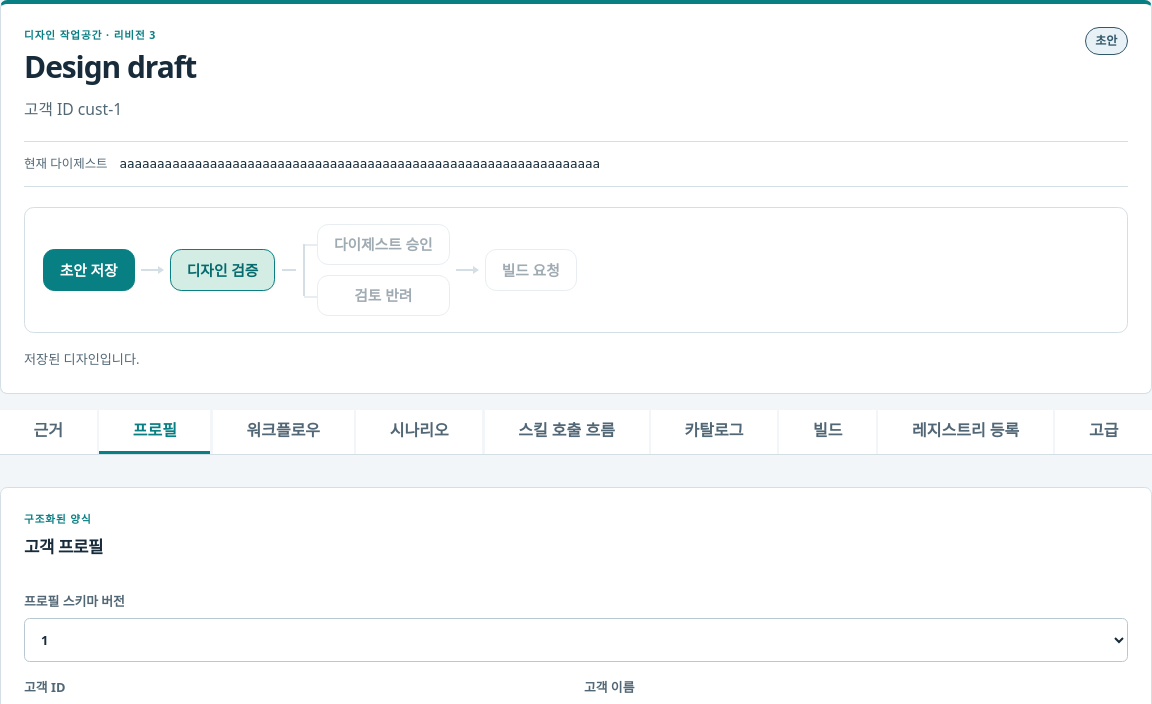
Test: StudioDesignPageContent › shows a catalog summary without exposing raw catalog JSON by default
Check: the heading "Design draft" is shown, box [24, 50, 196, 83]
Click the tab "카탈로그": (714,432) [651, 410, 777, 454]
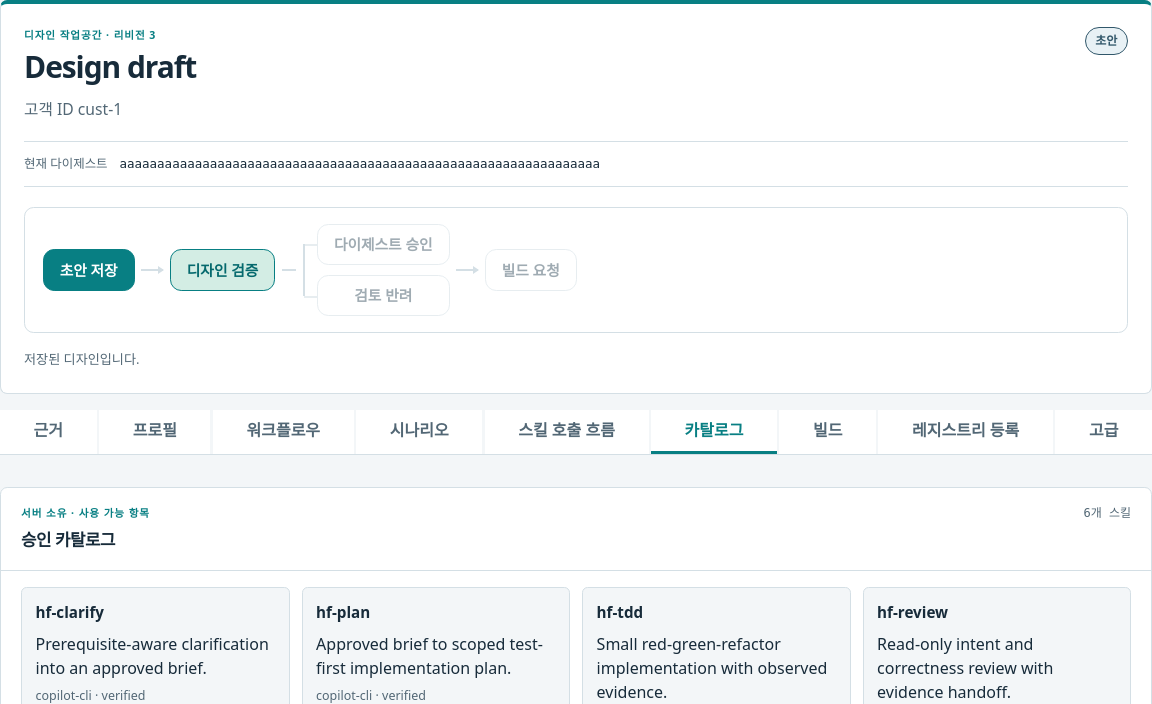
Check: the heading "승인 카탈로그" is shown, box [21, 528, 115, 552]
Check: the text "6개 스킬" is shown, box [1083, 504, 1131, 522]
